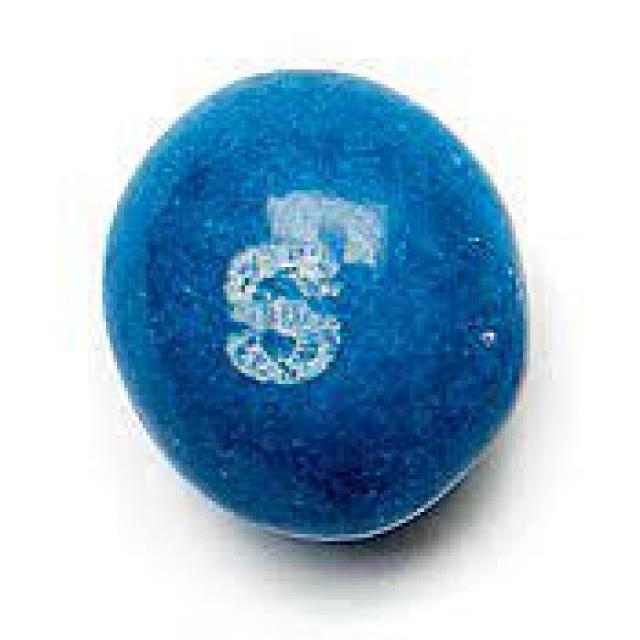smartie: (106, 73, 530, 543)
